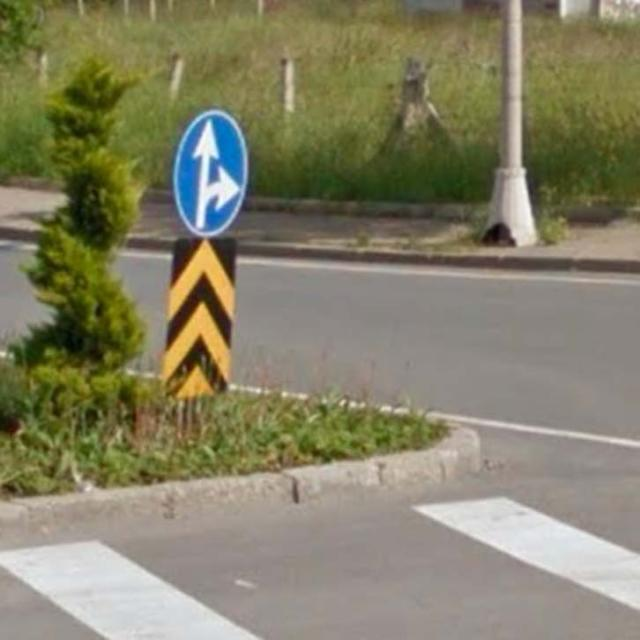ilerisag: (175, 109, 246, 235)
